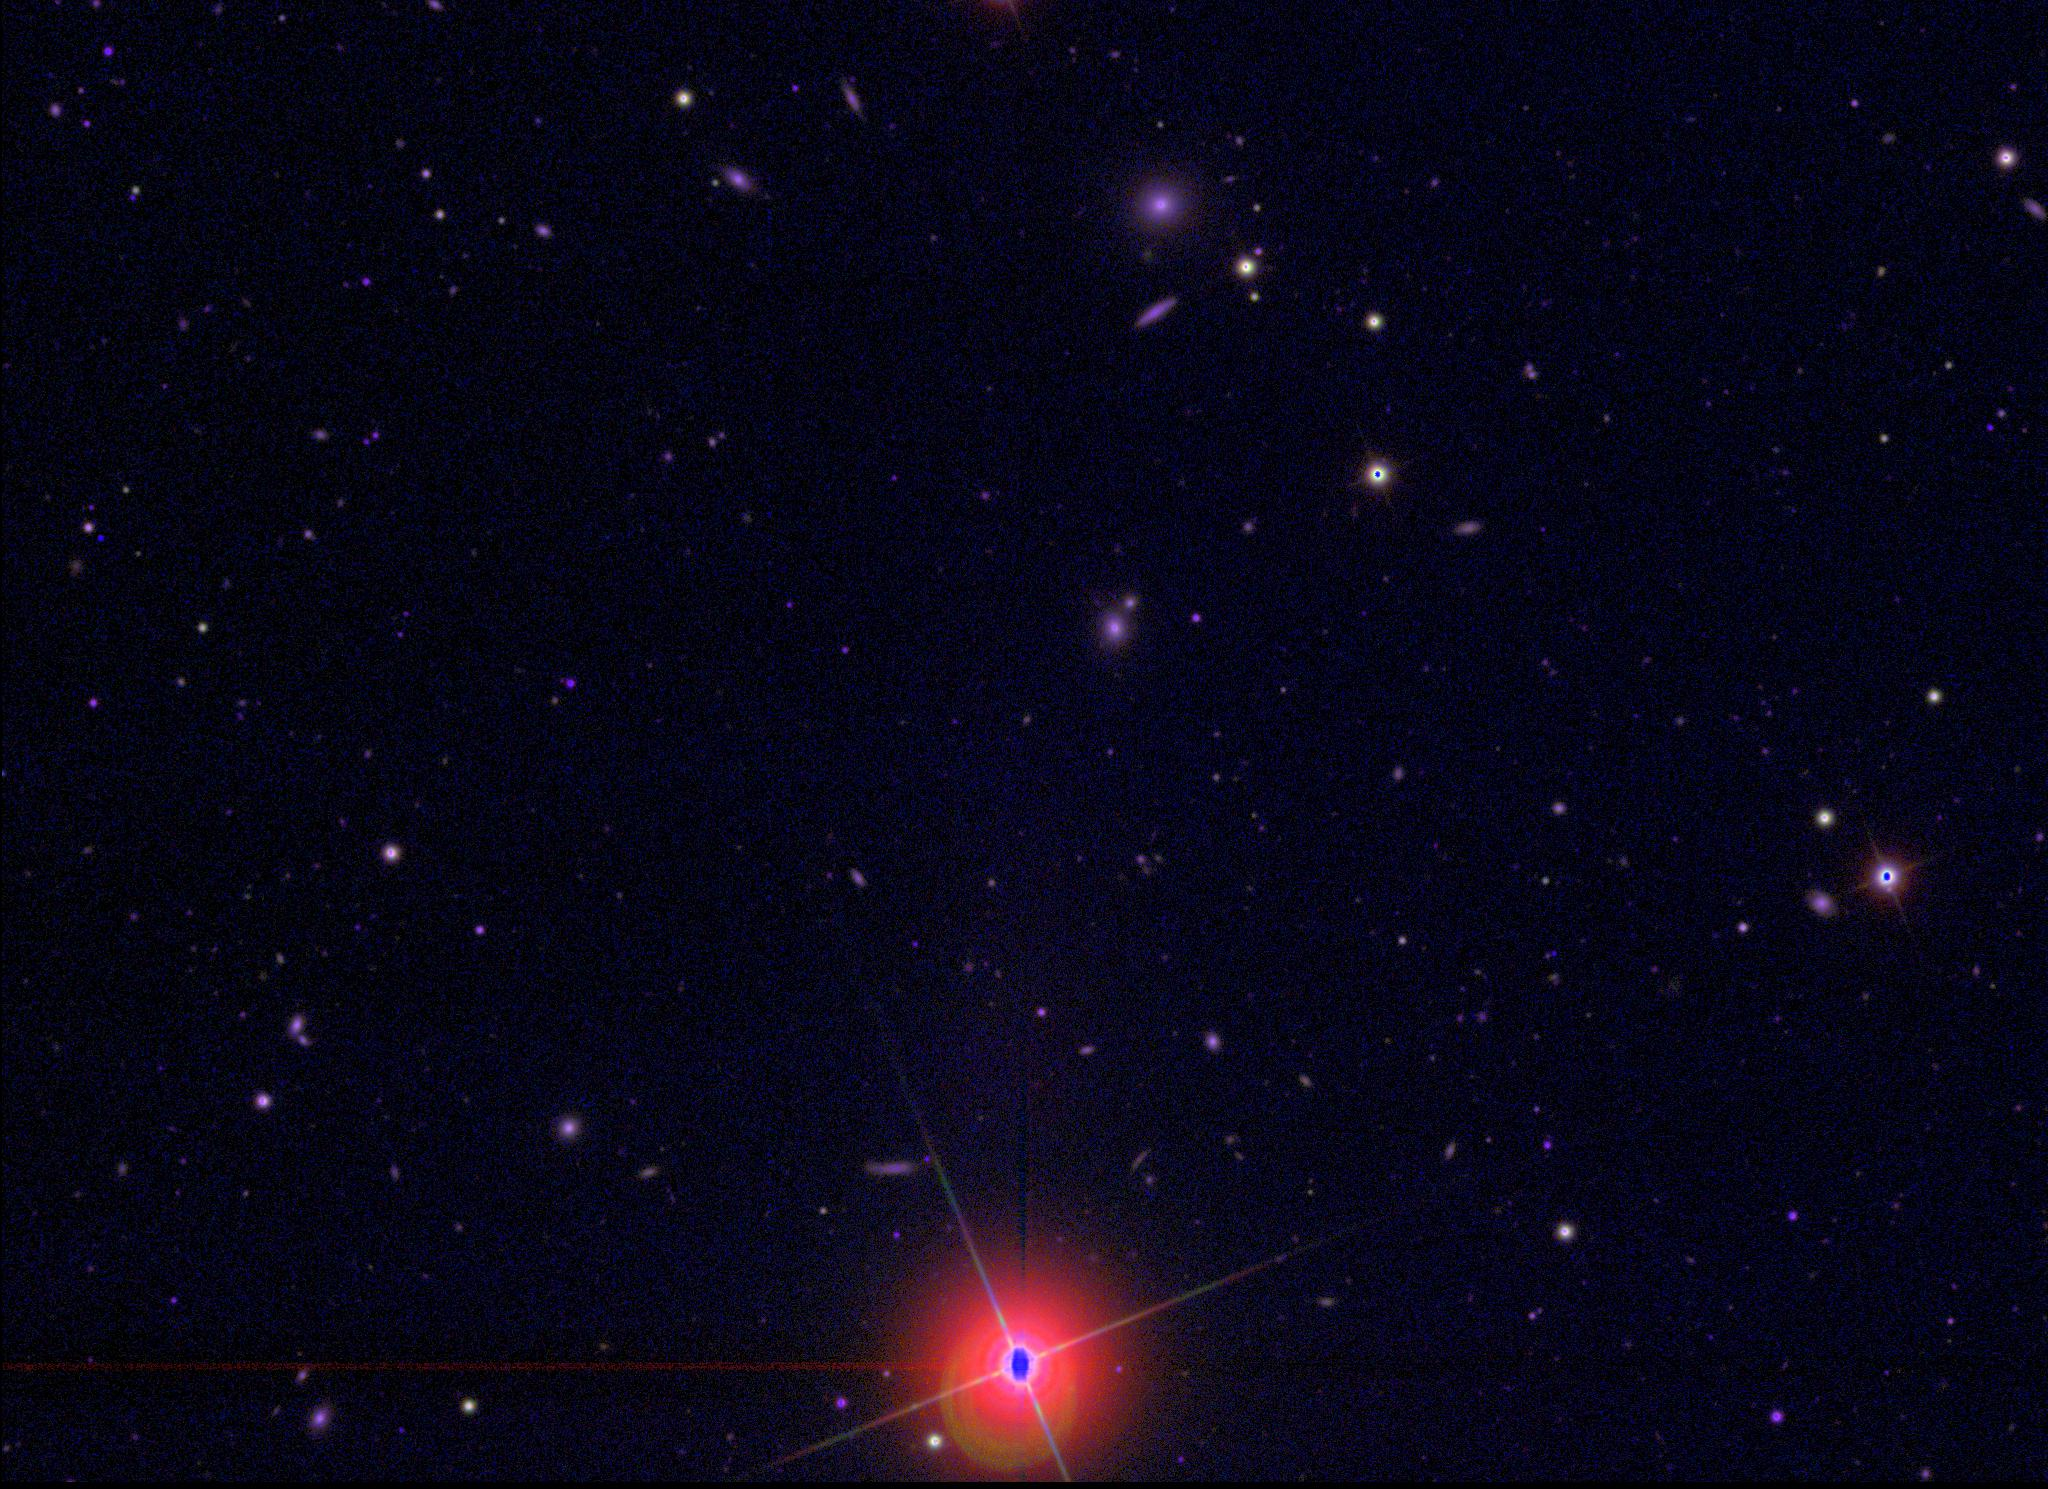L: (94, 531, 108, 546)
